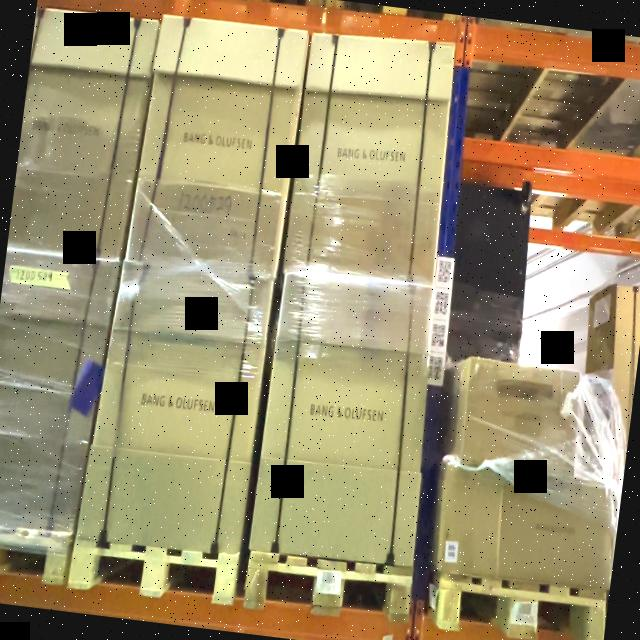box: (77, 257, 271, 557), (248, 269, 434, 569), (282, 28, 458, 283), (128, 16, 304, 270), (462, 359, 580, 478), (498, 467, 613, 589), (439, 462, 505, 582)
